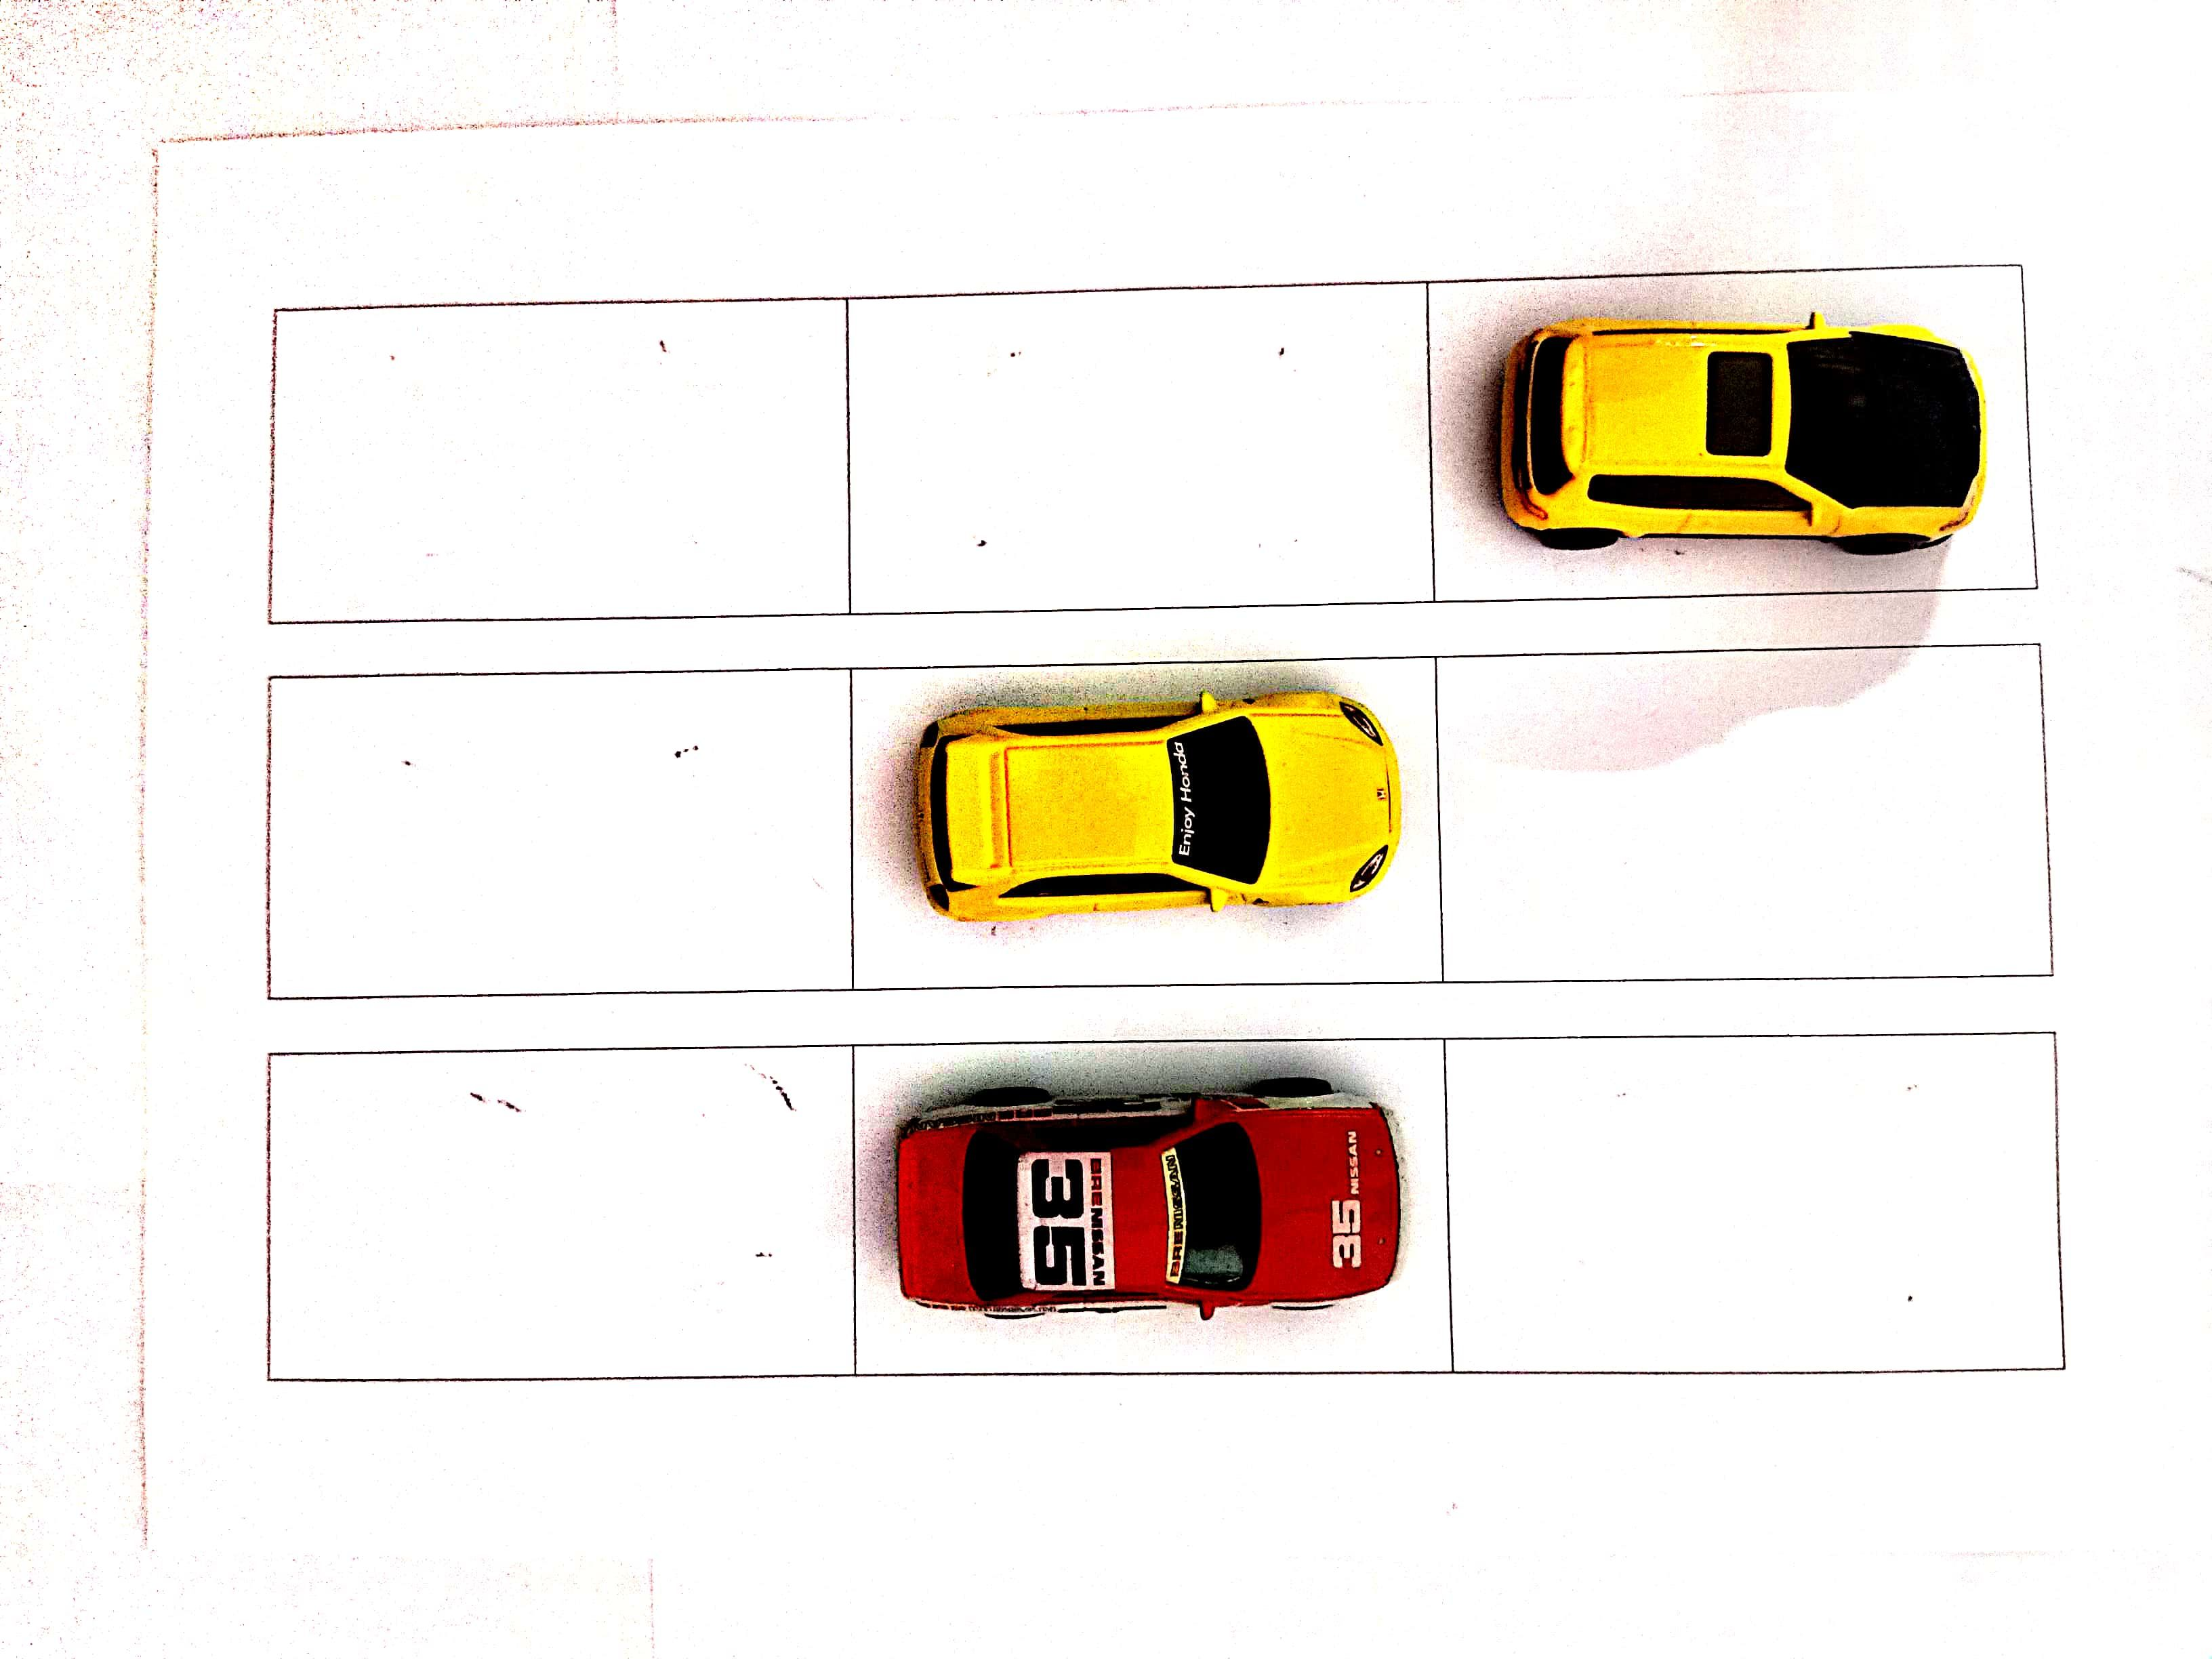Busy: (857, 1046, 1440, 1371), (860, 662, 1432, 992), (1437, 275, 2026, 594)
Free: (1446, 1035, 2054, 1378), (1433, 648, 2034, 979), (273, 1046, 843, 1378), (268, 674, 848, 993), (852, 288, 1425, 601), (273, 305, 836, 613)
